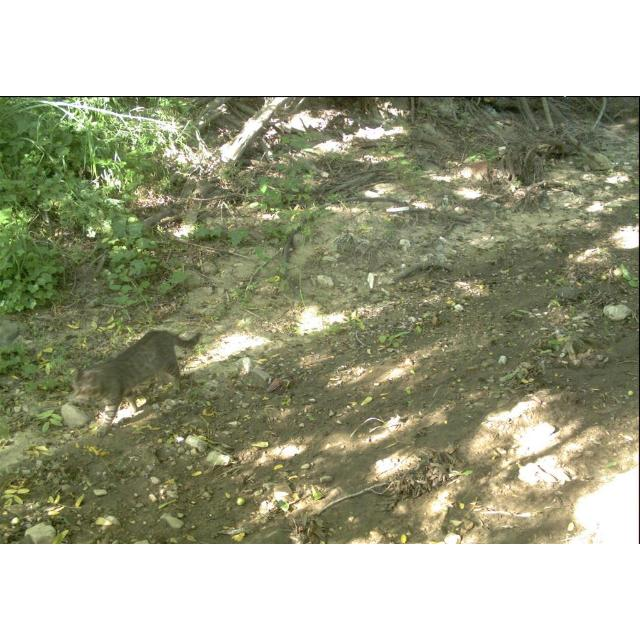animals: (69, 328, 205, 436)
